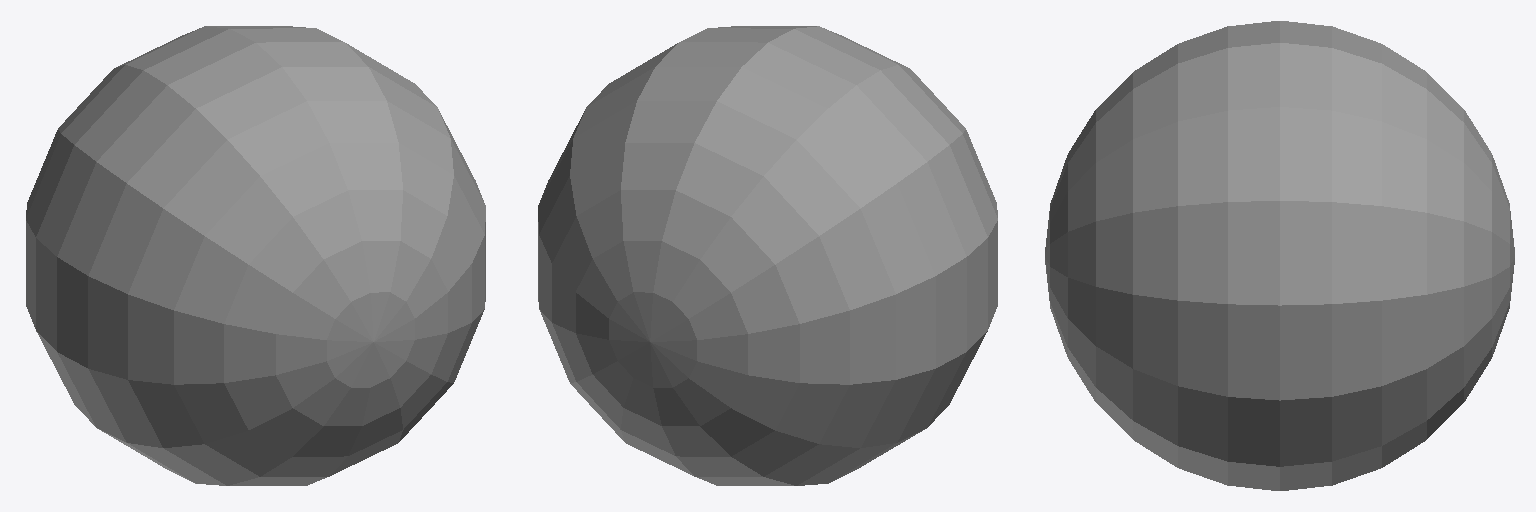
File: 8ball.obj
3 renders of one model, left to right at view 1: azimuth 30°, elevation 25°; view 2: azimuth 150°, elevation 25°; view 3: azimuth 270°, elevation 25°, orthographic.
Visible parts, largest first — view 1: ball_Sphere.007; view 2: ball_Sphere.007; view 3: ball_Sphere.007.
Part boxes in pixels (left/top/right/bottom): ball_Sphere.007: left=26, top=26, right=485, bottom=485; ball_Sphere.007: left=538, top=26, right=997, bottom=485; ball_Sphere.007: left=1045, top=21, right=1514, bottom=490.
Size of the model in its own units: 0.1114 by 0.1143 by 0.1143.